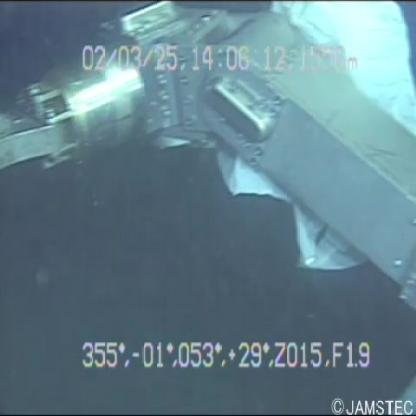Rov: (1, 1, 416, 308)
Rác: (214, 1, 415, 273)
